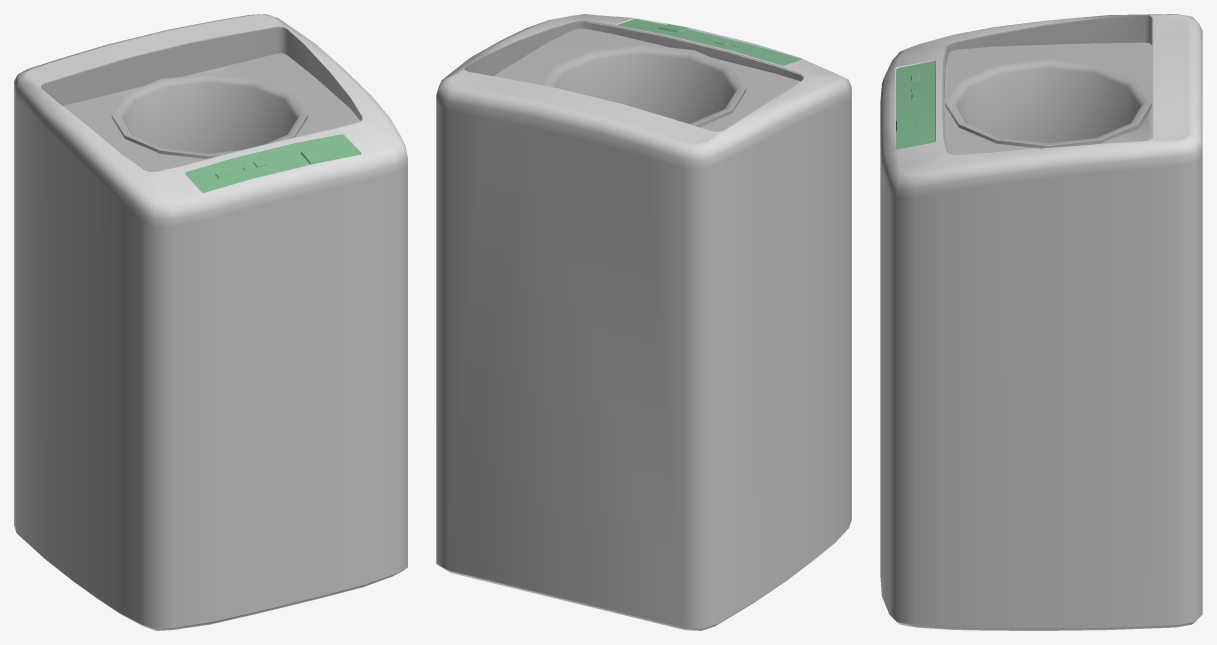
Rendered from XQB70H710U.FBX.
3 views of the same model, side by side, from view 1: azimuth 30°, elevation 25°; view 2: azimuth 150°, elevation 25°; view 3: azimuth 270°, elevation 25° (orthographic). The views are drawn at different scales.
Parts seen in each view (by area): view 1: XQB70H710U; view 2: XQB70H710U; view 3: XQB70H710U.
Part boxes in pixels (x1,y1,x2,y2): XQB70H710U: (14, 14, 407, 630); XQB70H710U: (436, 14, 851, 630); XQB70H710U: (880, 14, 1202, 630).
Size of the model in its own units: 58.2 by 55.4 by 92.8.
